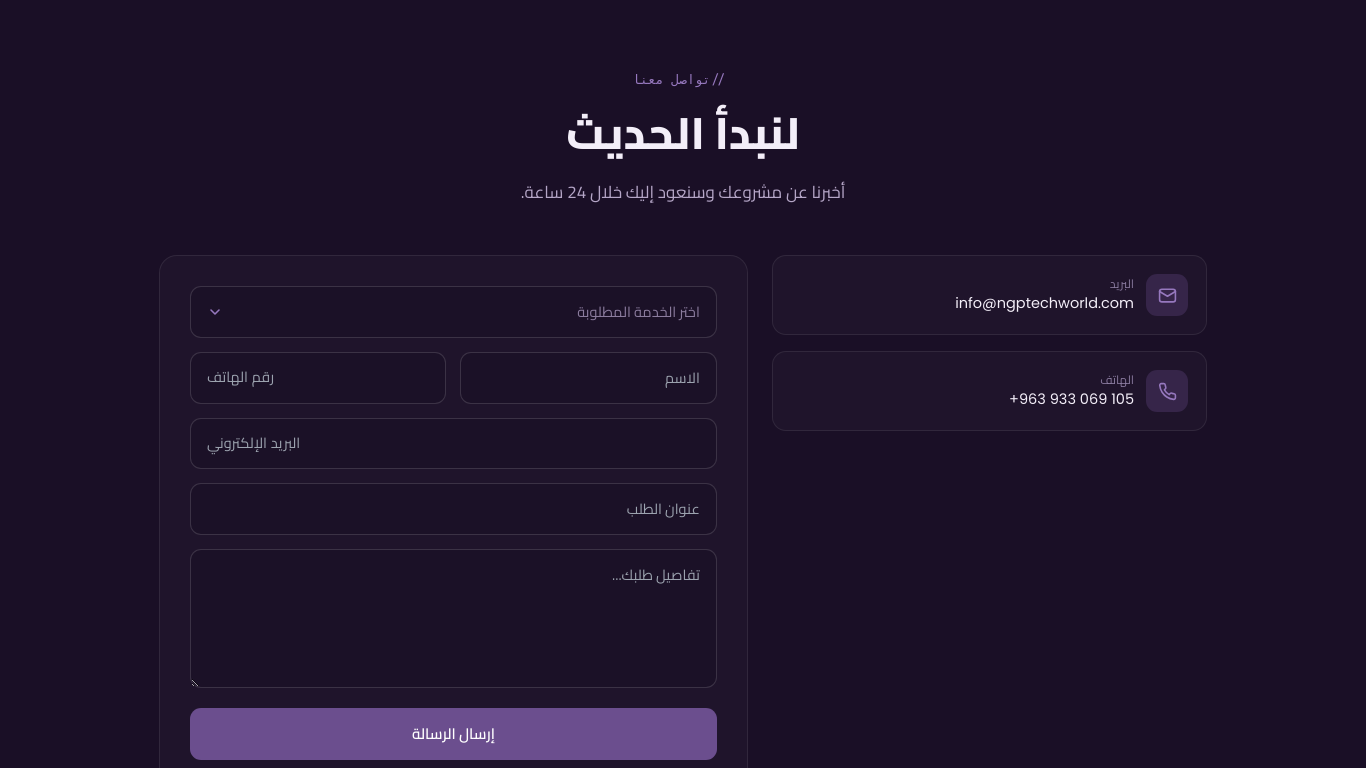
sending the form › sends the chosen service, title and description alongside the contact details
Click the button "اختر الخدمة المطلوبة" at (638,312), box [190,286,717,338]
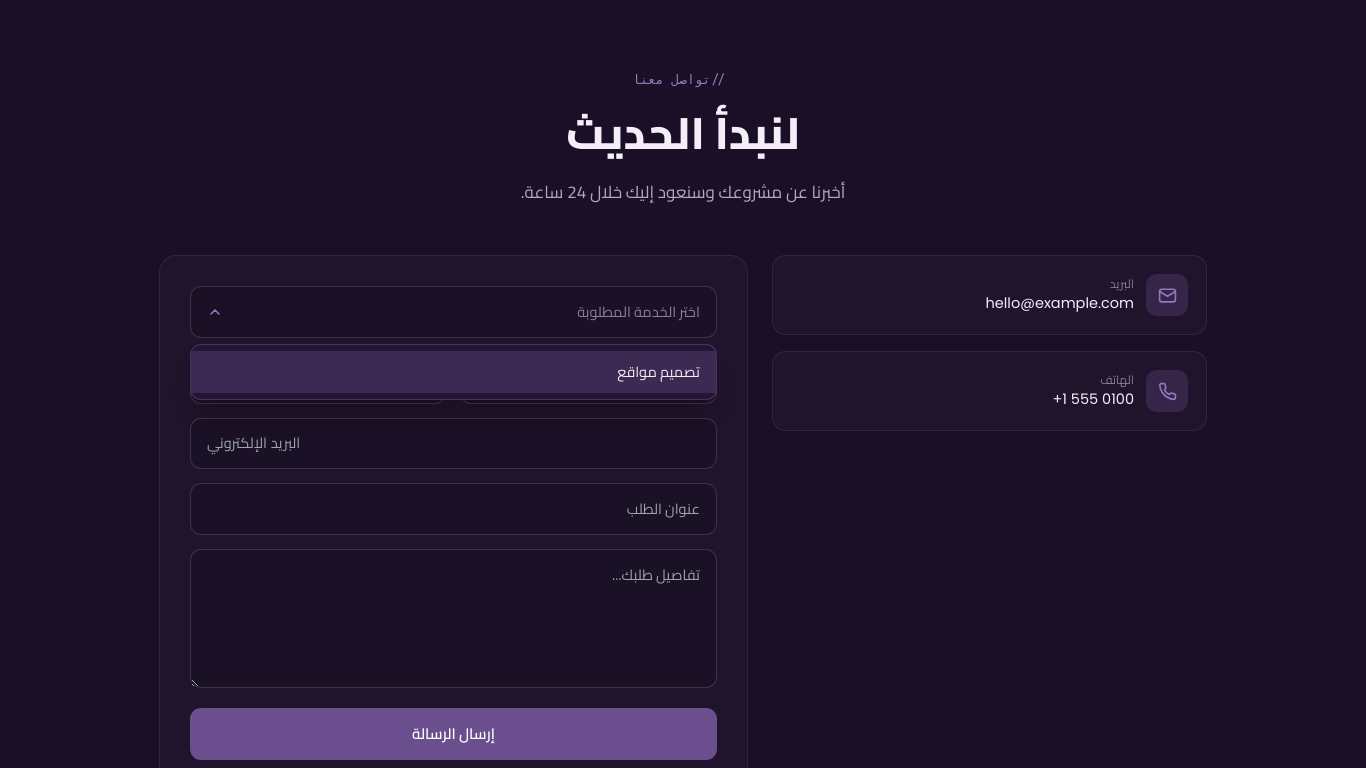
Click the option "تصميم مواقع" at (659,371), box [191,351,716,393]
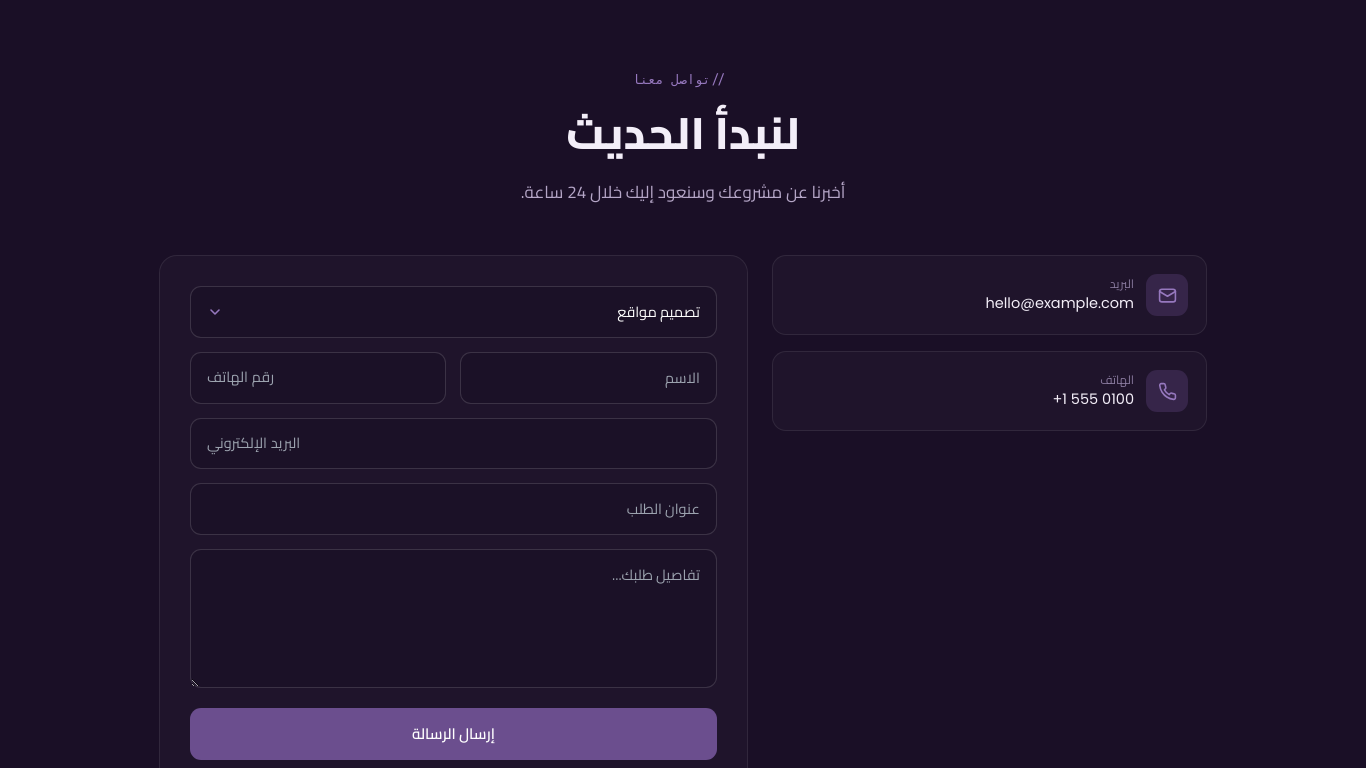
Type "Ali" into the field with placeholder "الاسم" at (589,378), box [460,352,717,404]
Type "+963 900 000 000" into the field with placeholder "رقم الهاتف" at (318,378), box [190,352,446,404]
Type "ali@example.com" into the field with placeholder "البريد الإلكتروني" at (453,443), box [190,418,717,469]
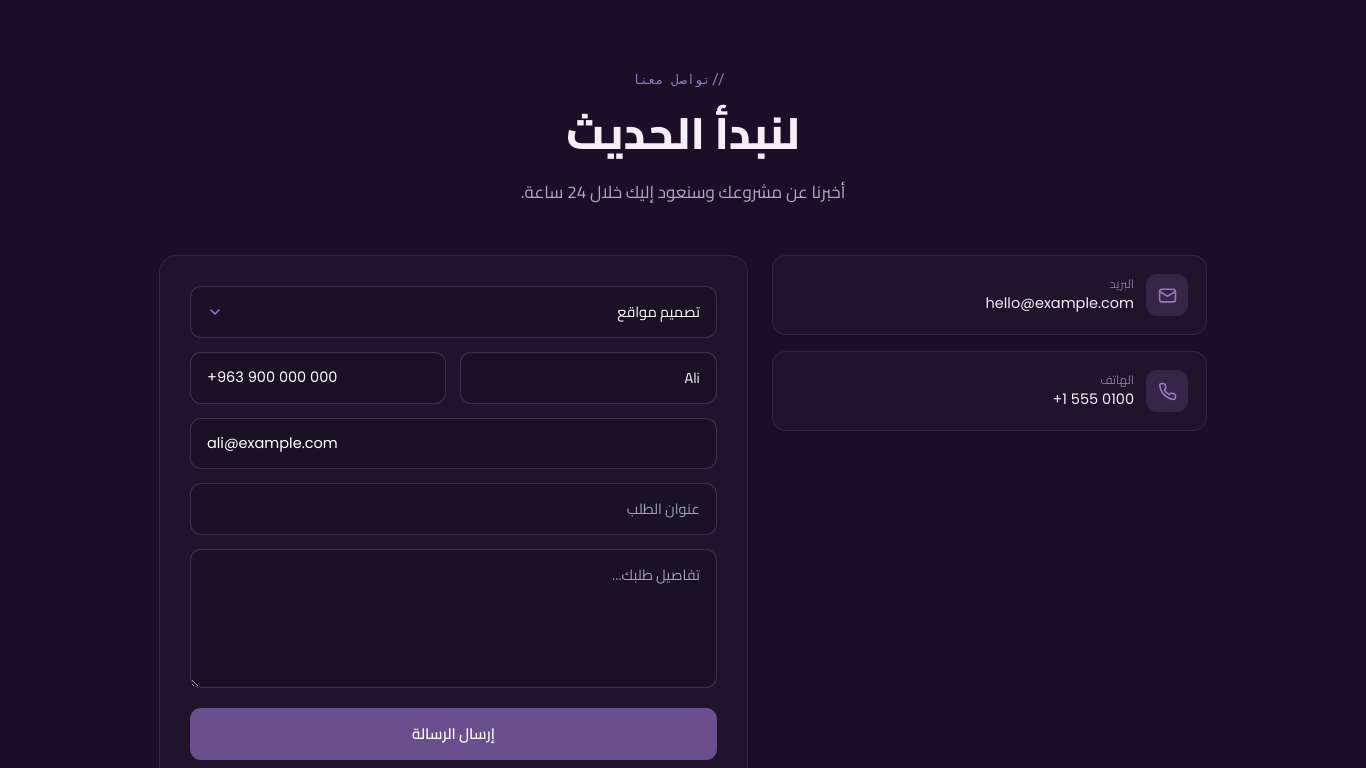
Type "App request" into the field with placeholder "عنوان الطلب" at (453,509), box [190,483,717,535]
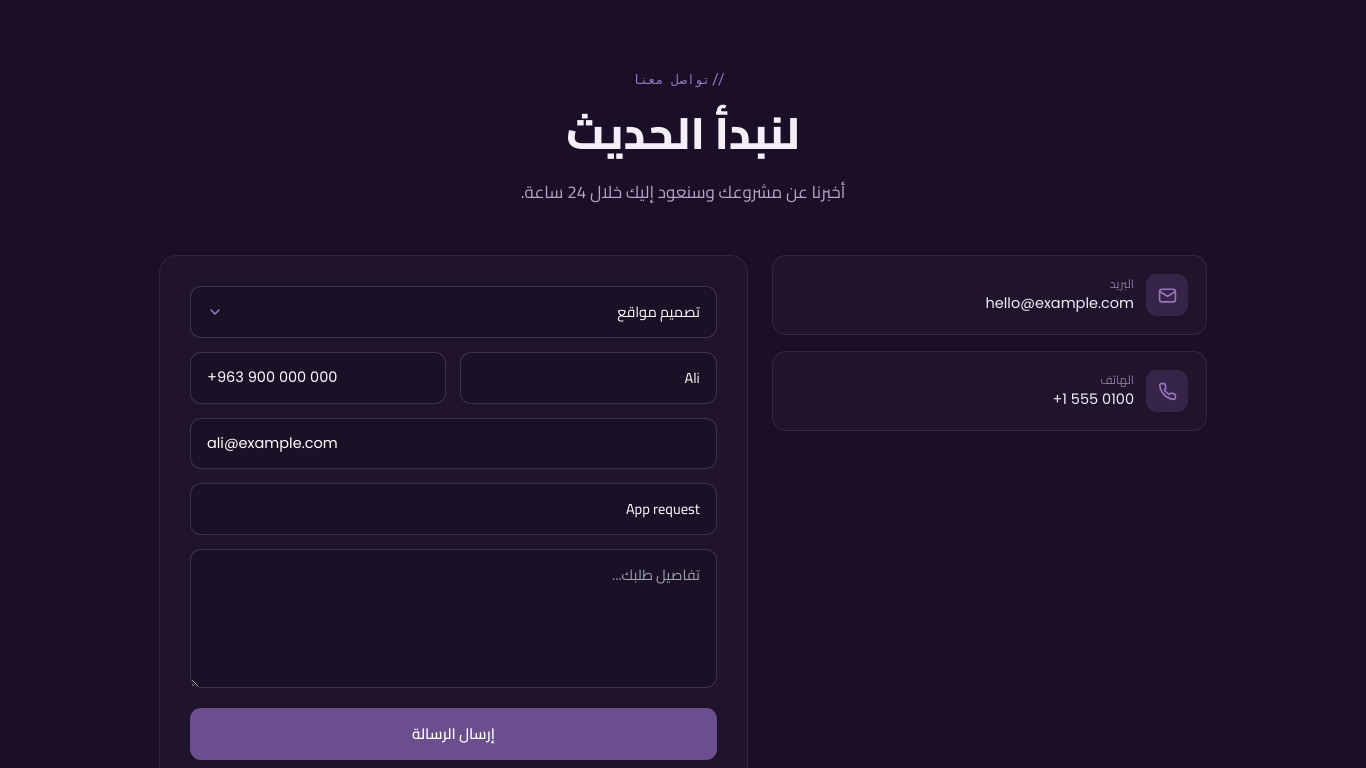
Type "Hello there, I need an app" into the text box with placeholder "تفاصيل طلبك..." at (453,618), box [190,549,717,688]
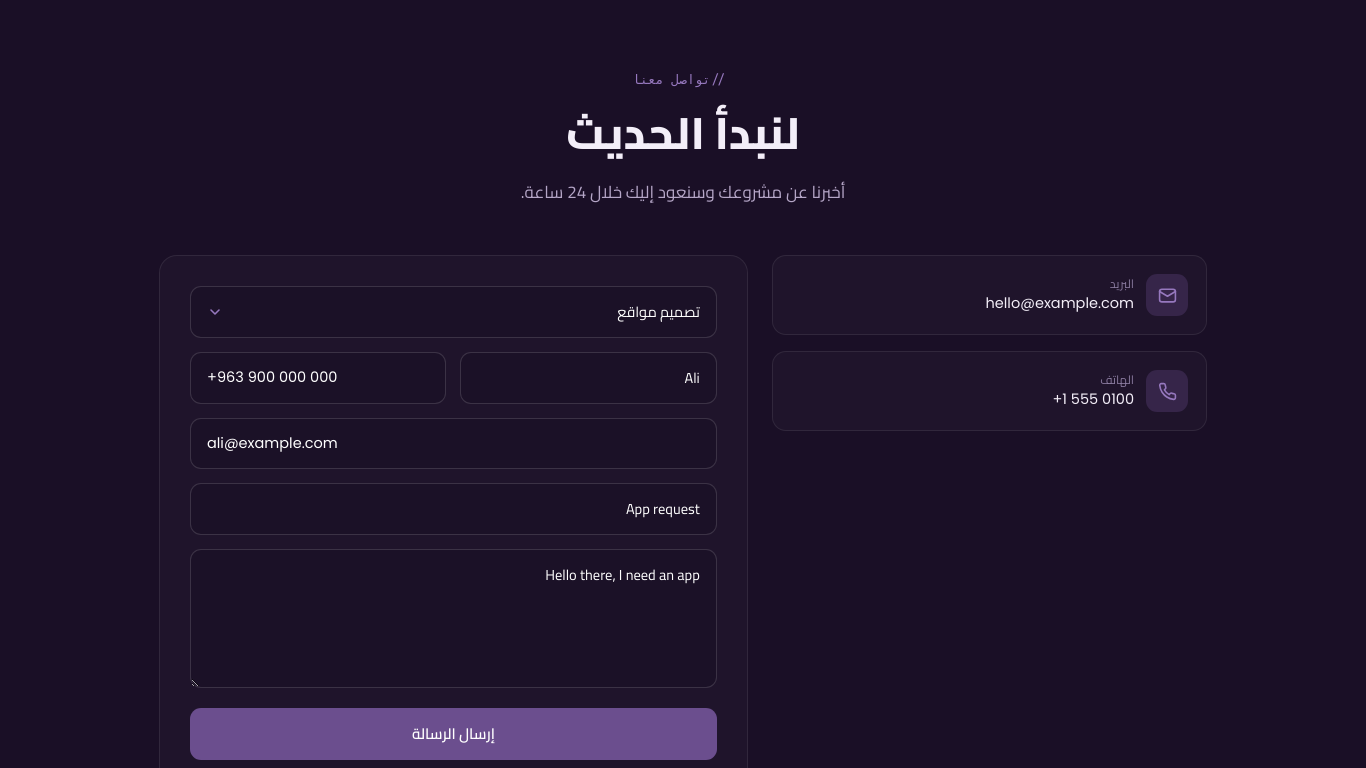
Click the button "إرسال الرسالة" at (453,734), box [190,708,717,760]
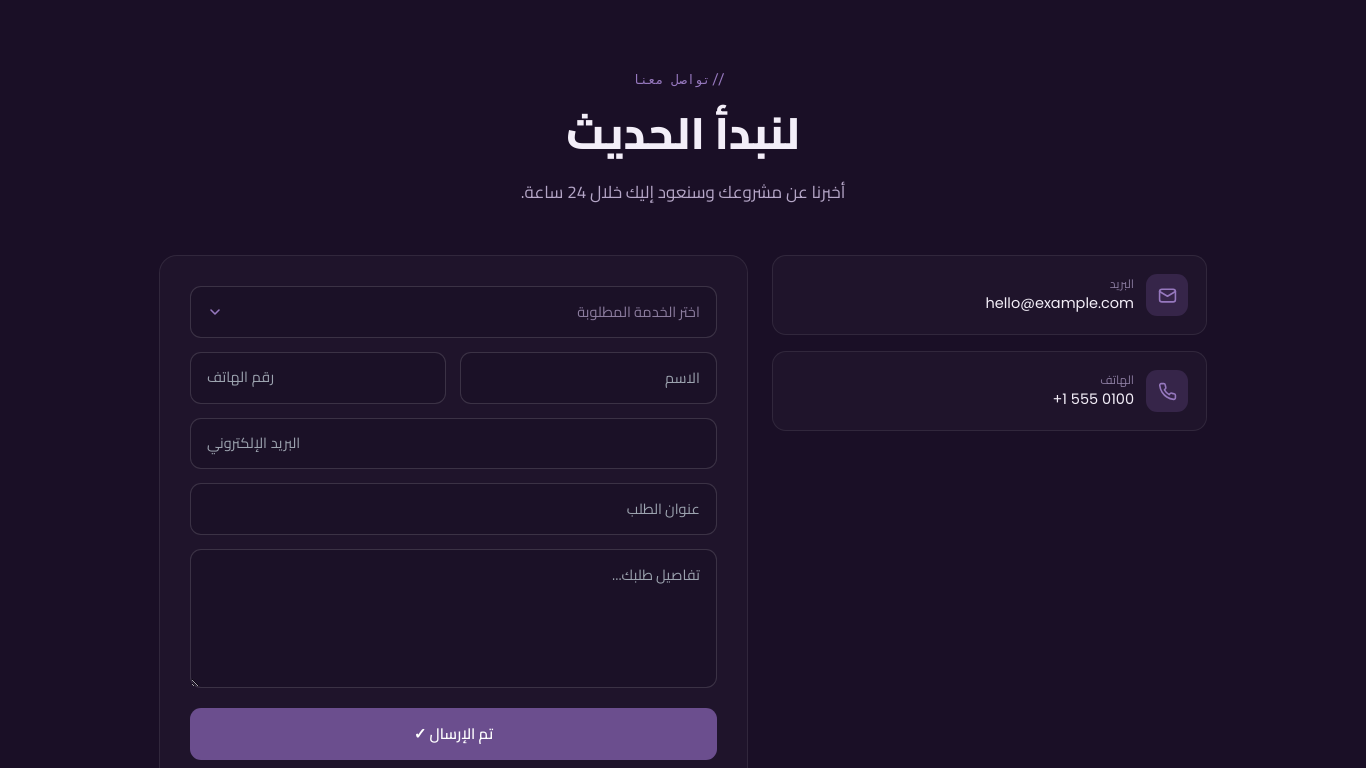
Now the button "تم الإرسال ✓" is shown, box [190,708,717,760]
